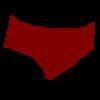mutande: (2, 13, 95, 80)
